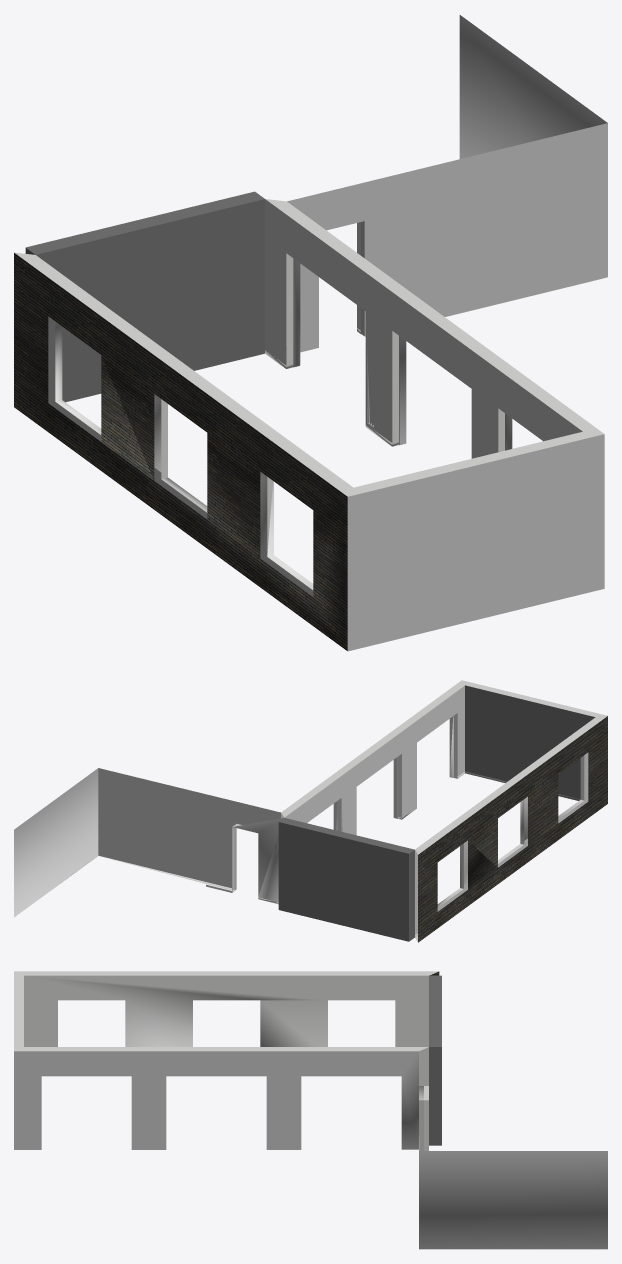
The model's file is Casa.fbx.
3 renders of one model, top to bottom at view 1: azimuth 30°, elevation 25°; view 2: azimuth 150°, elevation 25°; view 3: azimuth 270°, elevation 25°, orthographic. The views are drawn at different scales.
Visible parts, largest first — view 1: FbxMesh.1000; view 2: FbxMesh.1000; view 3: FbxMesh.1000.
Boxes of the visible parts, x1,y1,x2,y2 form: FbxMesh.1000: (14, 15, 607, 651); FbxMesh.1000: (14, 680, 607, 942); FbxMesh.1000: (14, 971, 607, 1249).
Size of the model in its own units: 49606 by 12684 by 69291.
